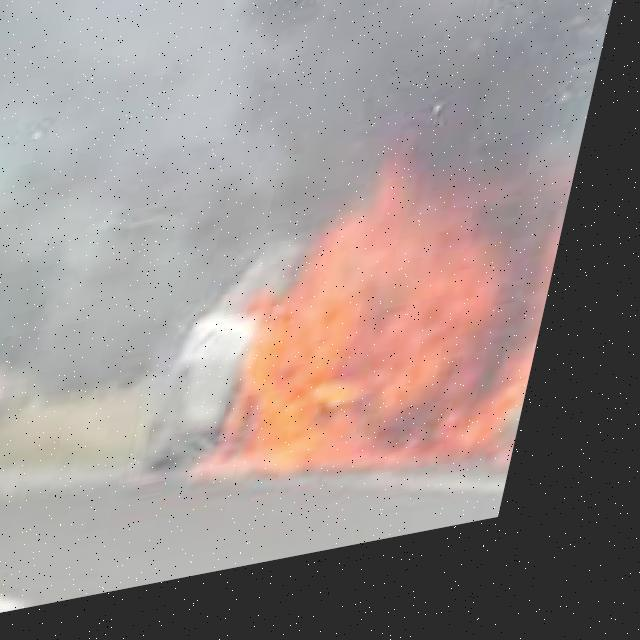Fire: (222, 157, 590, 514)
